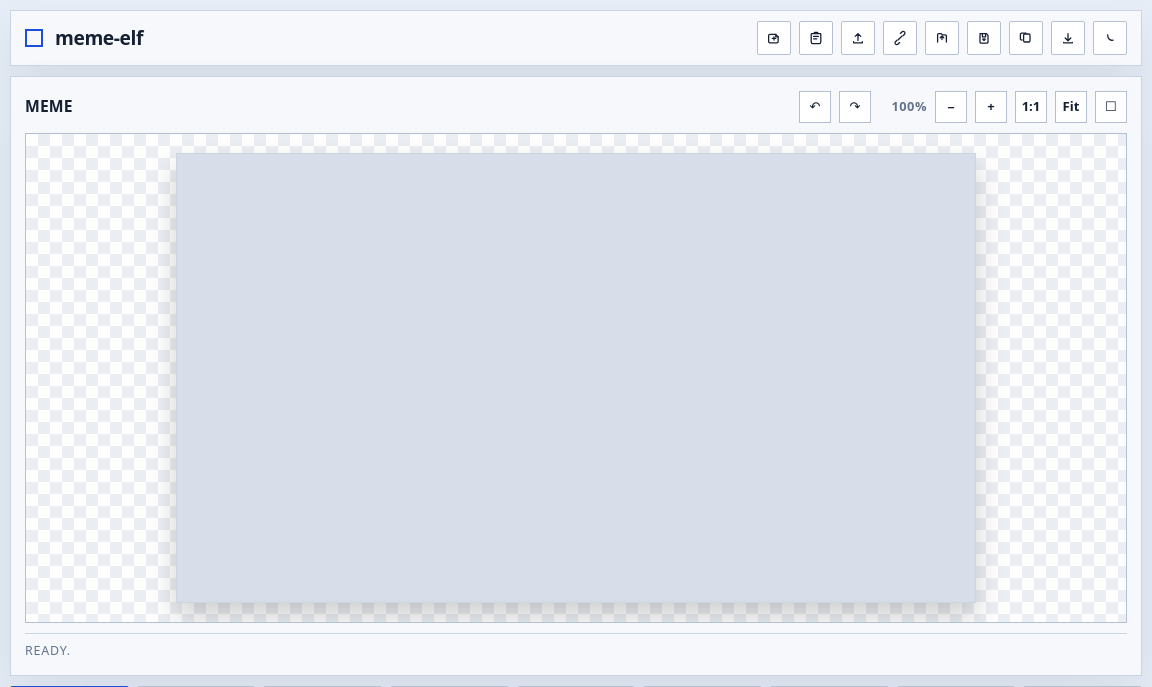
Test: App › loads an image when the clipboard button succeeds
The image size is (1152, 687).
What coordinates should you click on to do the following:
click the button named "paste from clipboard"
I would click on:
 (816, 38)
Its box is [799,21,833,55].
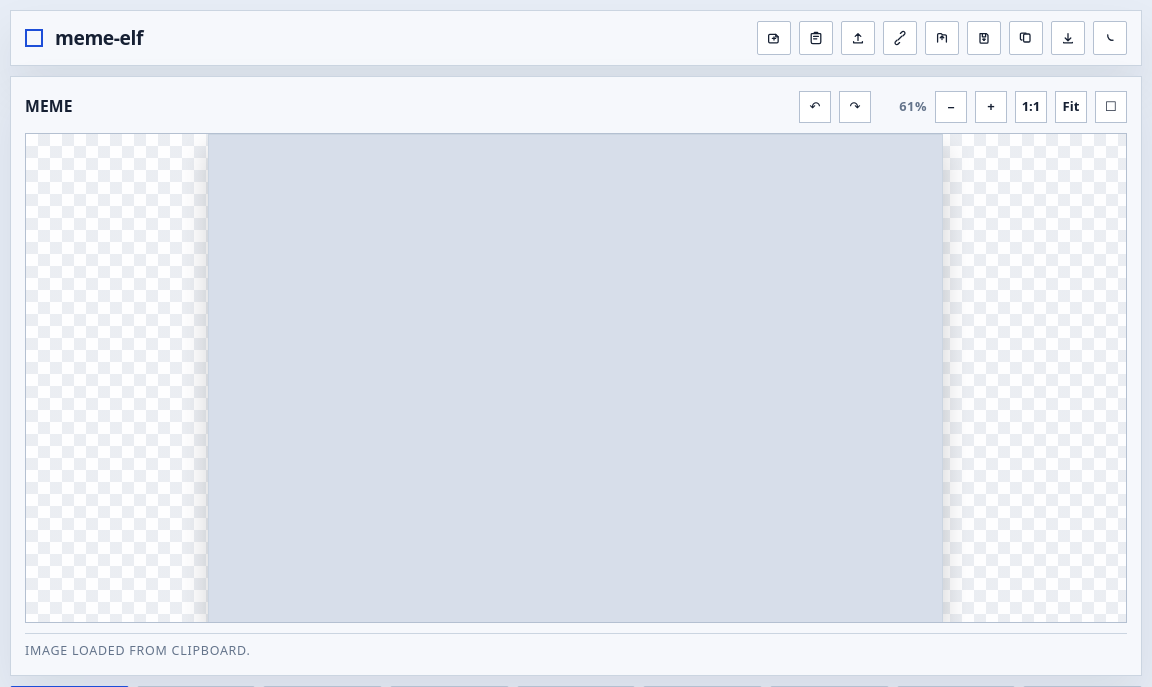
Expected: the text "Image loaded from clipboard." is shown, [25,642,251,661]
